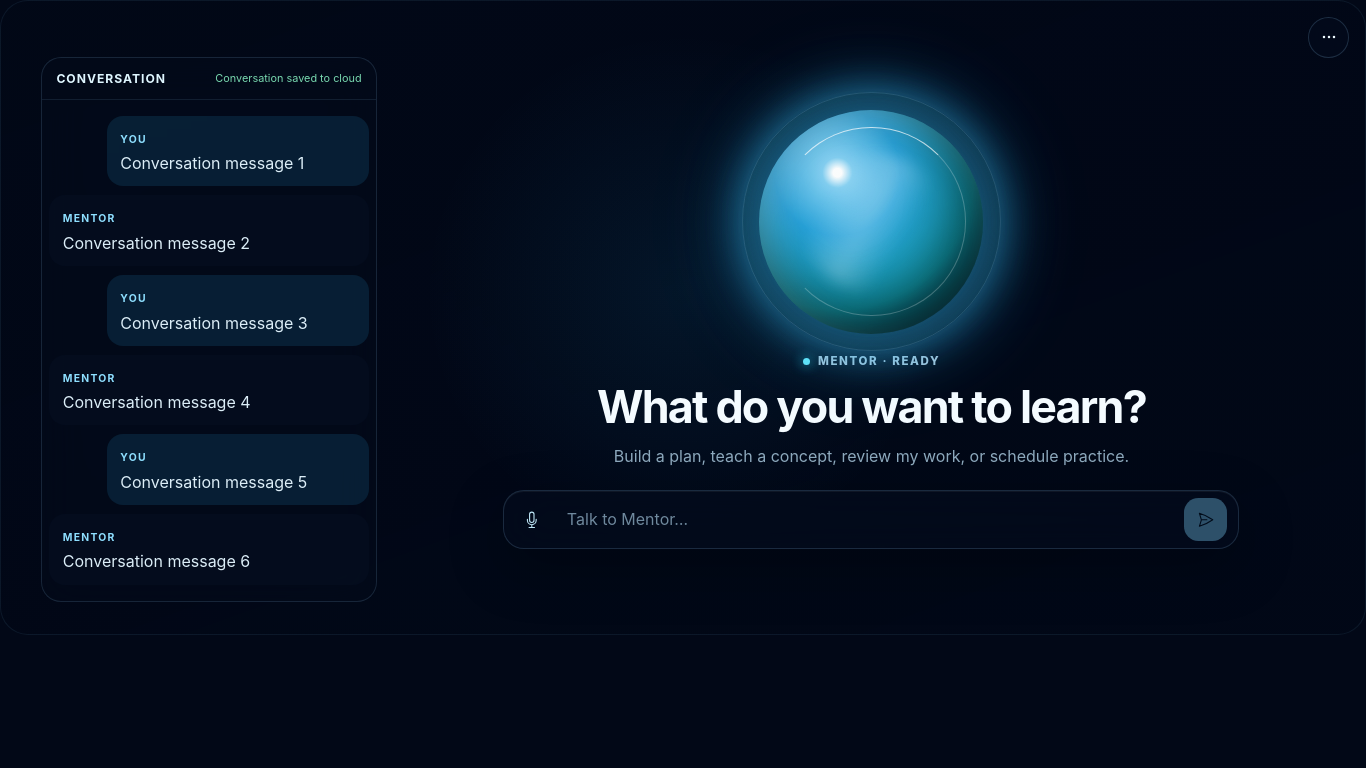
it: Agent Workspace conversation and voice › cancels a voice start safely when the button is pressed again
Expected: the text "Conversation message 6" is shown, [63,551,250,571]
Click the button named "Start voice conversation" at (532, 520), box [511,498,553,541]
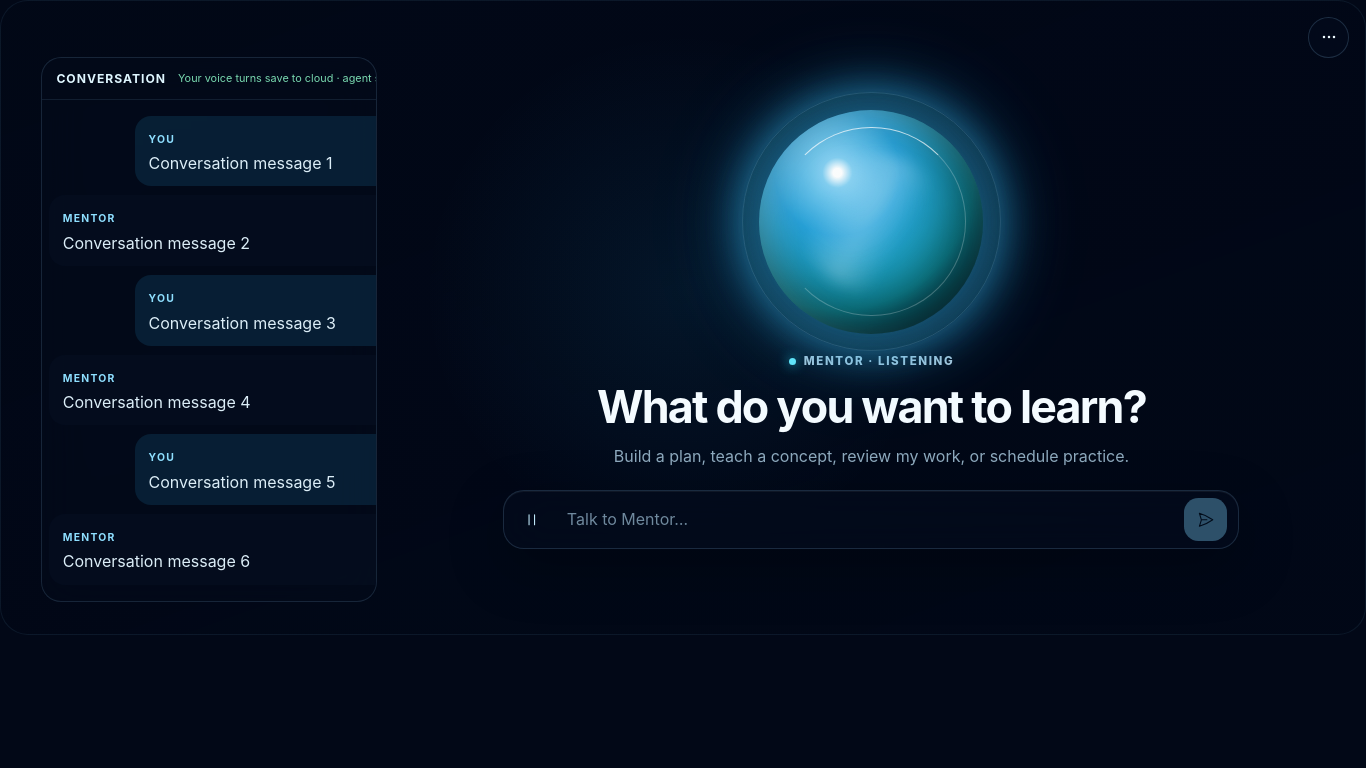
Click the button named "End voice conversation" at (532, 520), box [511,498,553,541]
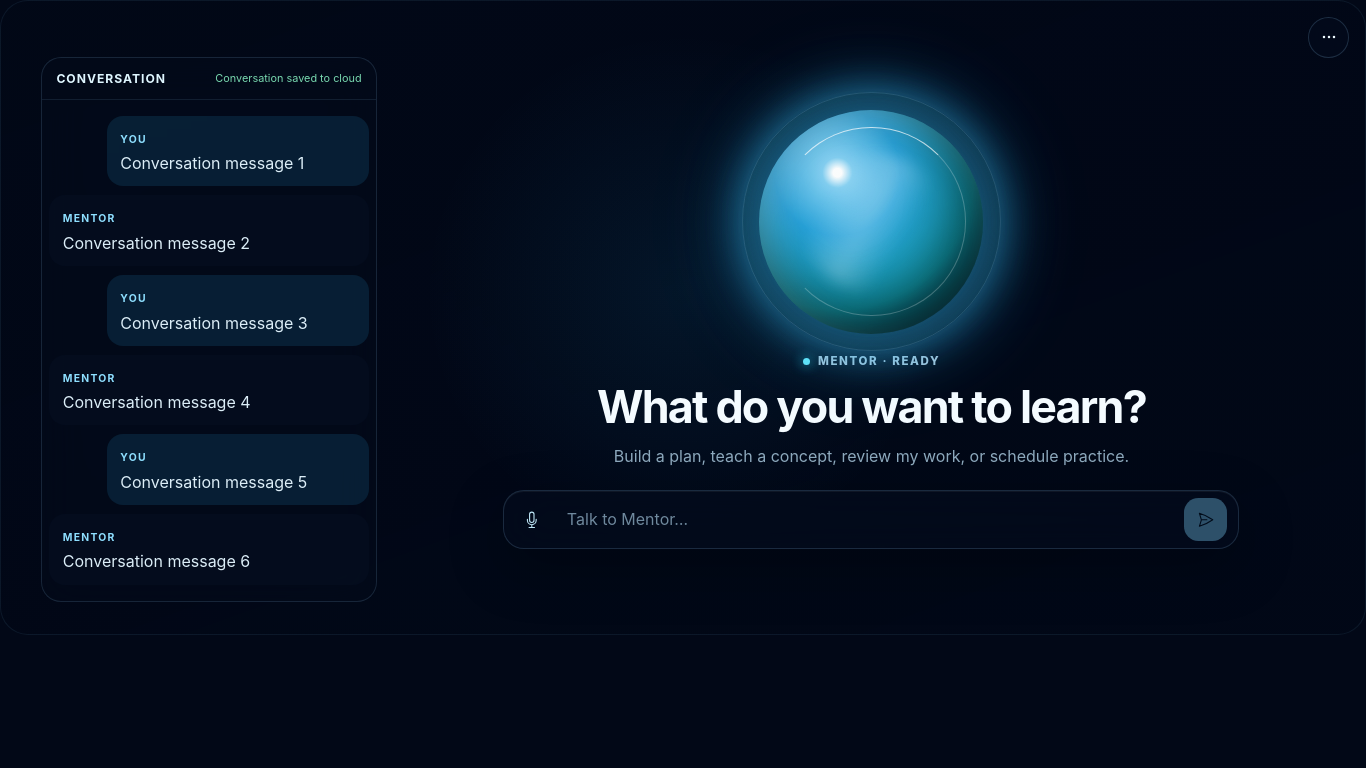
Expected: the button named "Start voice conversation" is shown, [511,498,553,541]
